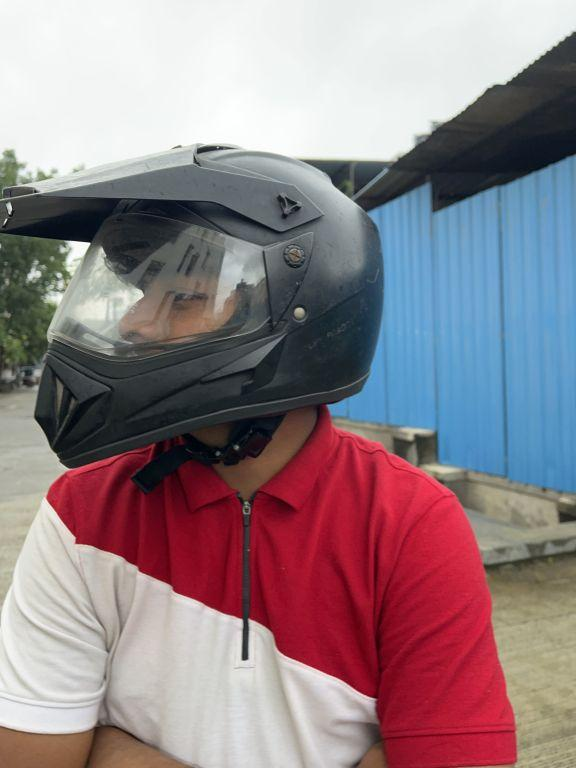helmet: (0, 127, 389, 473)
